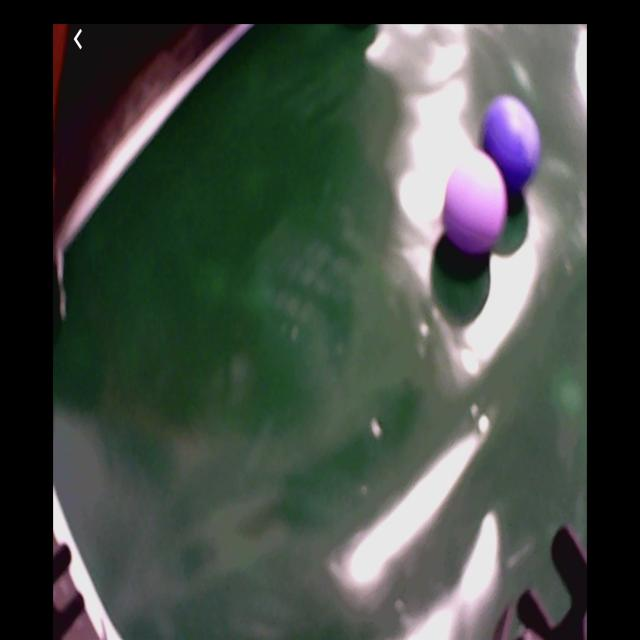ball: (442, 158, 509, 252), (481, 95, 543, 196)
